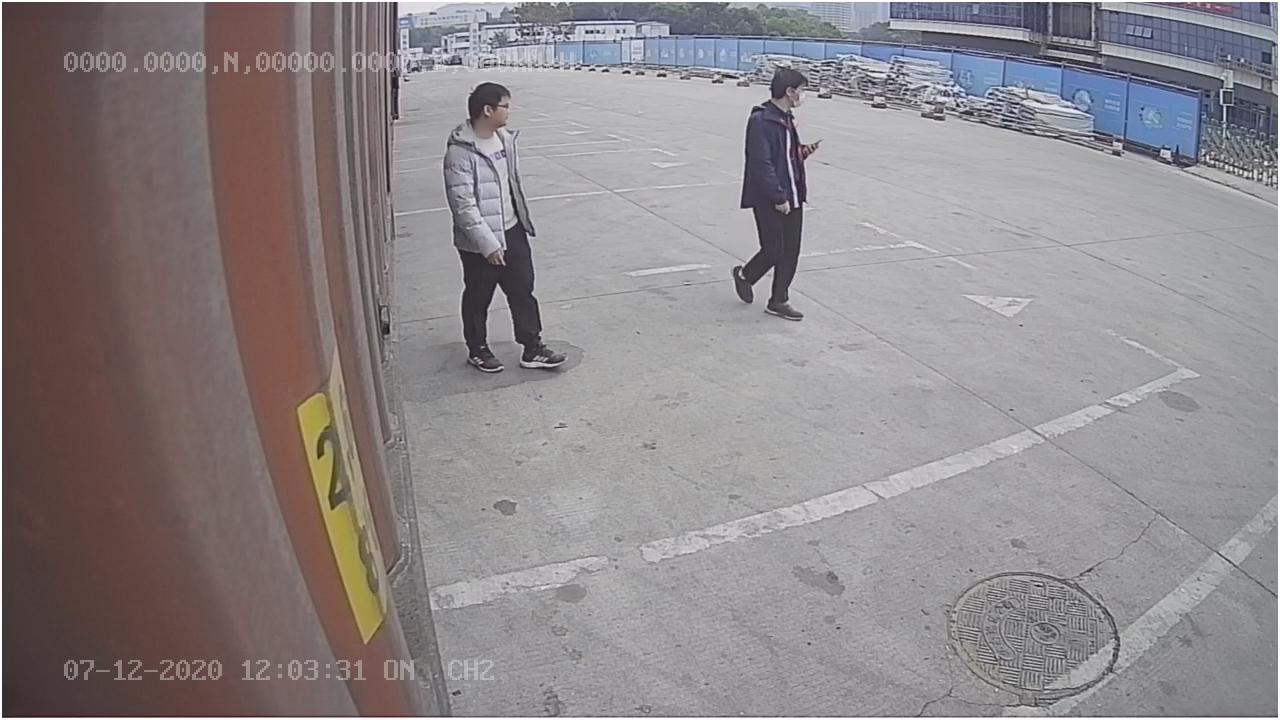person: (440, 77, 570, 383), (728, 62, 816, 329)
